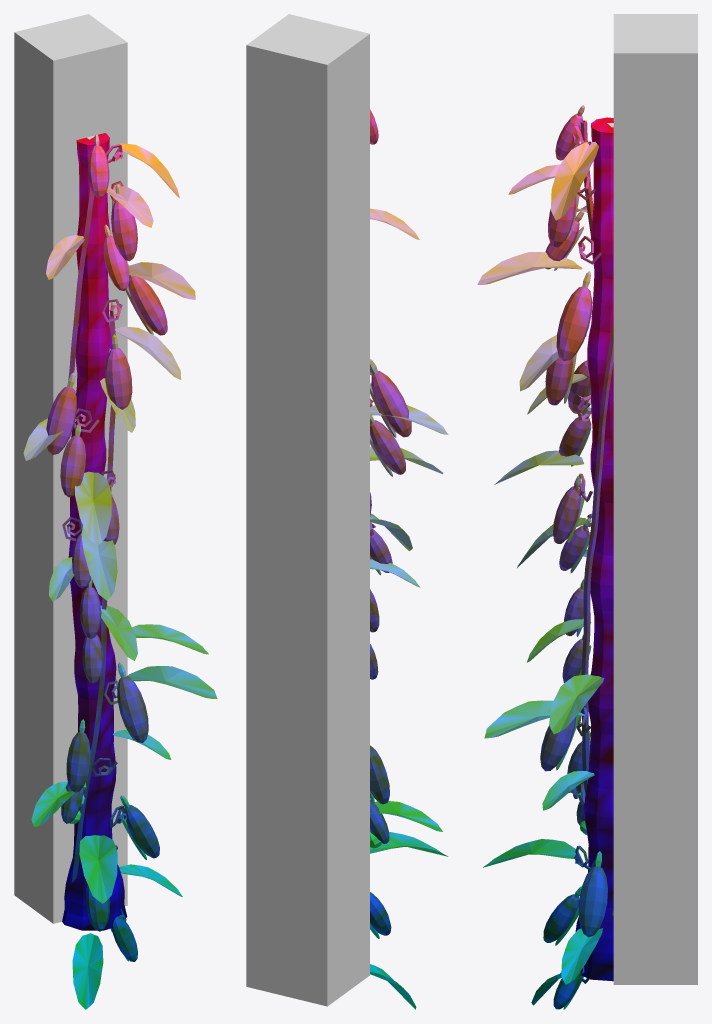
Rendered from Plant_Ladder_03.fbx.
3 views of the same model, side by side, from view 1: azimuth 30°, elevation 25°; view 2: azimuth 150°, elevation 25°; view 3: azimuth 270°, elevation 25° (orthographic). The views are drawn at different scales.
Parts seen in each view (by area): view 1: CLIMB_0, Plant_Ladder_03; view 2: CLIMB_0, Plant_Ladder_03; view 3: CLIMB_0, Plant_Ladder_03.
Boxes of the visible parts, x1,y1,x2,y2 form: CLIMB_0: (14,14,127,923); Plant_Ladder_03: (23,133,217,1009); CLIMB_0: (246,14,369,1006); Plant_Ladder_03: (370,109,448,1009); CLIMB_0: (613,14,697,984); Plant_Ladder_03: (477,105,613,1009).
Size of the model in its own units: 2.63 by 13.02 by 2.62.
